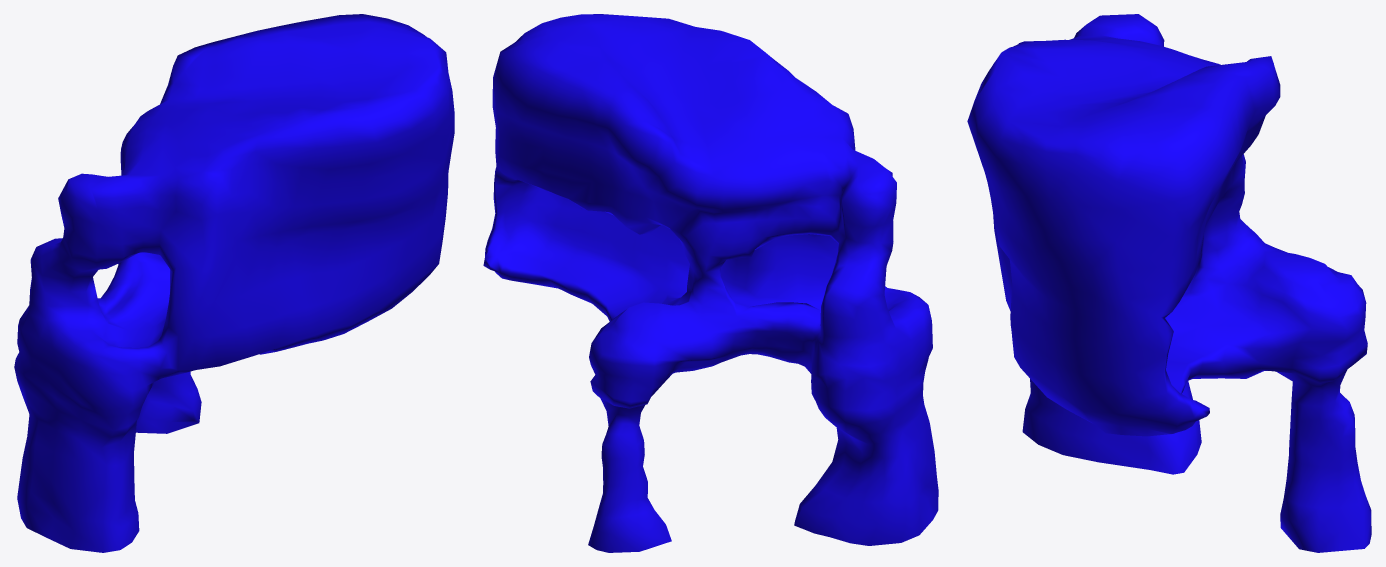
The model's file is cliffCraterwallBalcony.fbx.
3 views of the same model, side by side, from view 1: azimuth 30°, elevation 25°; view 2: azimuth 150°, elevation 25°; view 3: azimuth 270°, elevation 25° (orthographic). The views are drawn at different scales.
Parts seen in each view (by area): view 1: cliffCraterwallBalcony_LOD0; view 2: cliffCraterwallBalcony_LOD0; view 3: cliffCraterwallBalcony_LOD0.
Boxes of the visible parts, left/top/right/bottom form: cliffCraterwallBalcony_LOD0: left=14, top=14, right=454, bottom=552; cliffCraterwallBalcony_LOD0: left=483, top=14, right=938, bottom=552; cliffCraterwallBalcony_LOD0: left=967, top=14, right=1371, bottom=552.
Size of what is drawn, in the model's own units: 6346 by 4345 by 5999.
